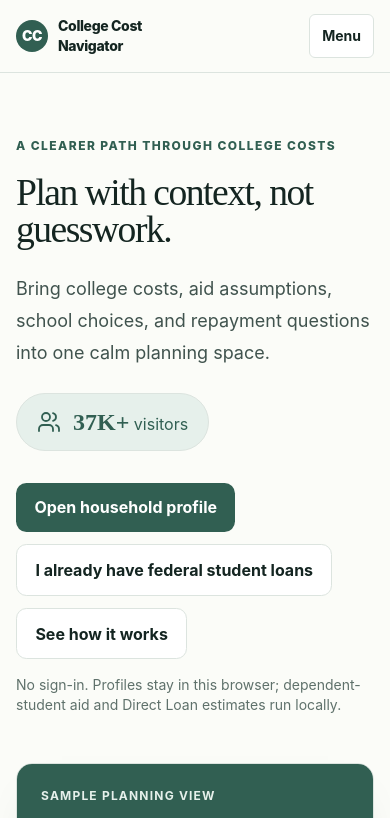
application shell › opens accessible mobile navigation
Click the button "Menu": (342, 36) [309,14,374,58]
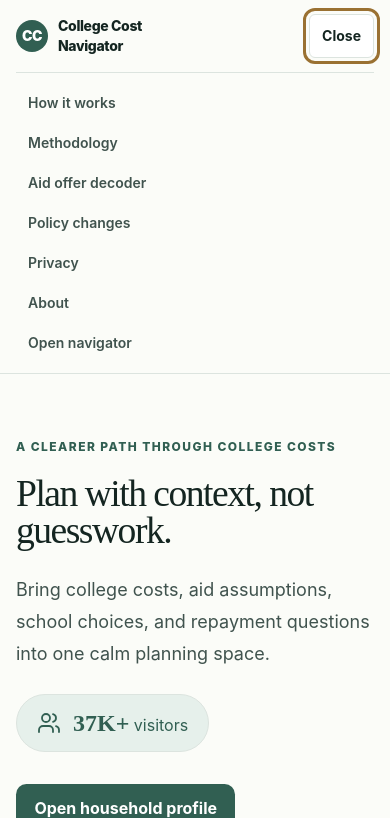
expect the button named "Menu" is expanded: met, box [309,14,374,58]
expect the navigation bar named "Mobile" is shown: met, box [16,72,374,373]
